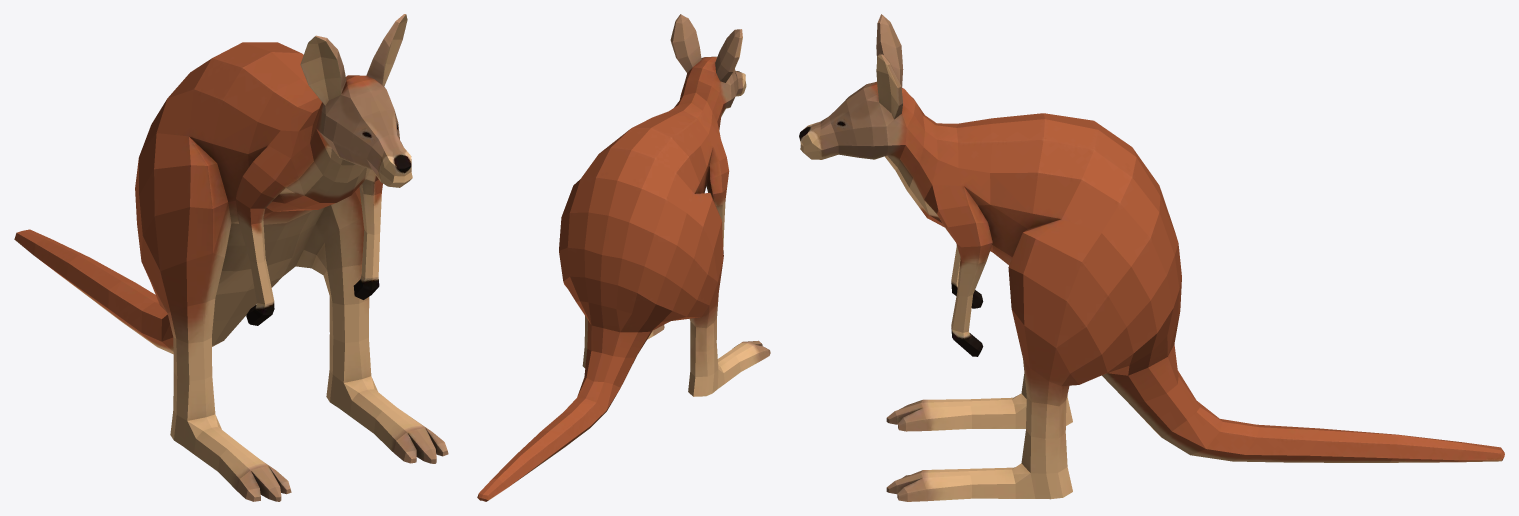
File: kangaroo.glb
3 views of the same model, side by side, from view 1: azimuth 30°, elevation 25°; view 2: azimuth 150°, elevation 25°; view 3: azimuth 270°, elevation 25° (orthographic). The views are drawn at different scales.
Visible parts, largest first — view 1: RedKangaroo_Mesh; view 2: RedKangaroo_Mesh; view 3: RedKangaroo_Mesh.
Part boxes in pixels (x1=…): RedKangaroo_Mesh: x1=14, y1=14, x2=448, y2=501; RedKangaroo_Mesh: x1=477, y1=14, x2=770, y2=501; RedKangaroo_Mesh: x1=799, y1=14, x2=1504, y2=501.
Bounding box in the file's own units: 3.95 × 8.26 × 12.4.
Materials: 1 (1 with a texture image).
